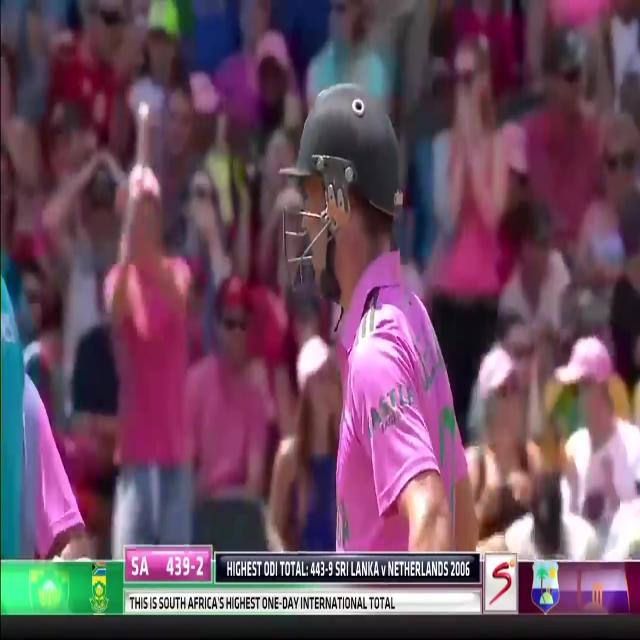Ball: (273, 90, 491, 554), (0, 55, 91, 565)
